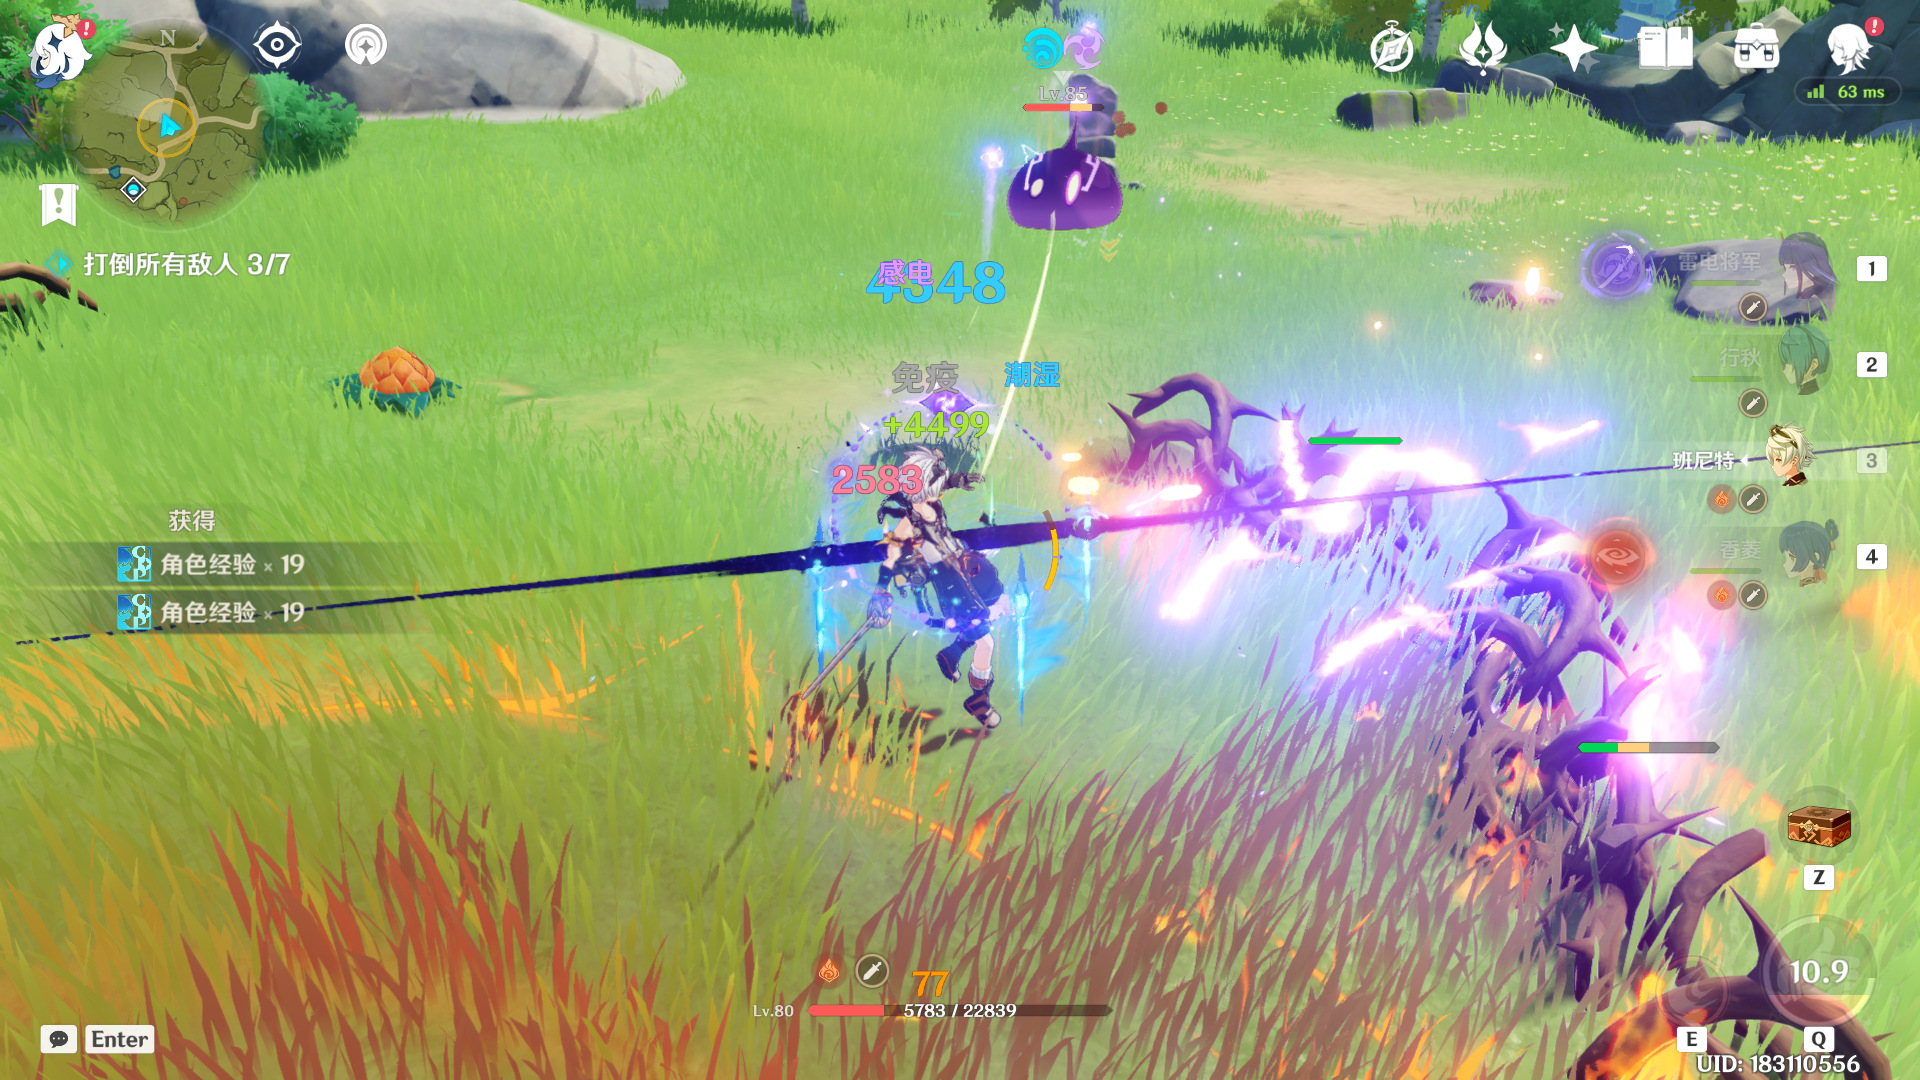character: (800, 415, 1063, 757)
slime: (978, 135, 1159, 262)
